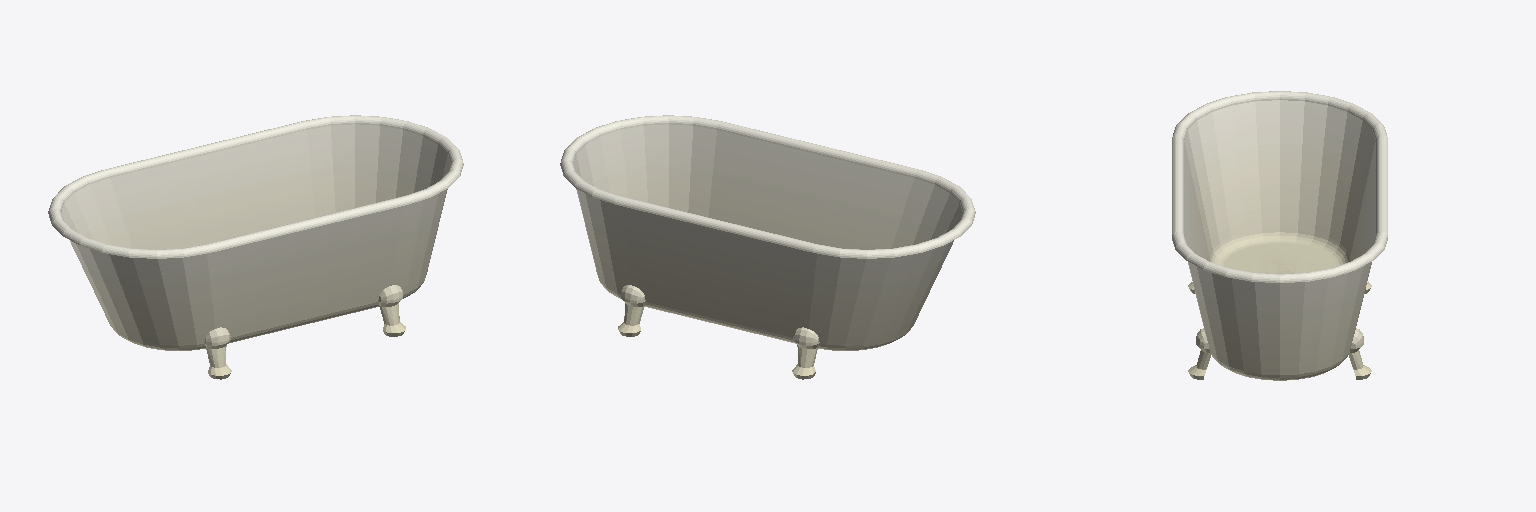
The picture shows the model from 3 angles: view 1: azimuth 30°, elevation 25°; view 2: azimuth 150°, elevation 25°; view 3: azimuth 270°, elevation 25°; orthographic projection.
Parts seen in each view (by area): view 1: Mesh01_Mesh01.001, BackFoot1_BackFoot1.001, FrntFoot1_FrntFoot1.001; view 2: Mesh01_Mesh01.001, BackFoot2_BackFoot2.001, FrntFoot2_FrntFoot2.001; view 3: Mesh01_Mesh01.001, FrntFoot1_FrntFoot1.001, FrntFoot2_FrntFoot2.001.
Part boxes in pixels (left/top/right/bottom): Mesh01_Mesh01.001: left=48, top=115, right=463, bottom=350; BackFoot1_BackFoot1.001: left=204, top=327, right=231, bottom=379; FrntFoot1_FrntFoot1.001: left=378, top=285, right=405, bottom=336; Mesh01_Mesh01.001: left=560, top=115, right=975, bottom=350; BackFoot2_BackFoot2.001: left=792, top=327, right=819, bottom=379; FrntFoot2_FrntFoot2.001: left=618, top=285, right=645, bottom=336; Mesh01_Mesh01.001: left=1172, top=91, right=1387, bottom=380; FrntFoot1_FrntFoot1.001: left=1188, top=328, right=1210, bottom=379; FrntFoot2_FrntFoot2.001: left=1349, top=328, right=1371, bottom=379.
Size of the model in its own units: 1.75 by 0.6302 by 0.85.
4 materials, 2 textured.